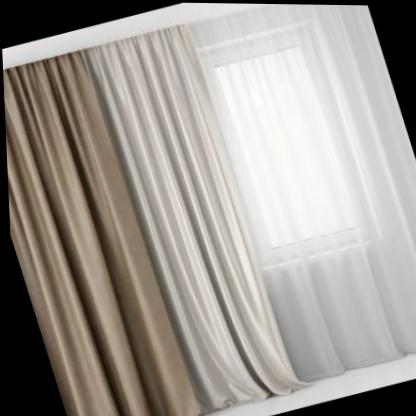Curtains: (2, 24, 303, 416)
